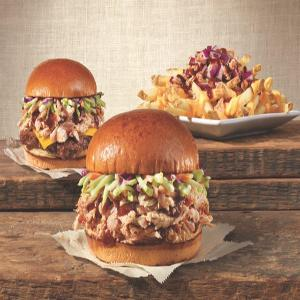cheeseburger: (73, 105, 217, 270), (21, 55, 101, 171)
fries: (144, 37, 291, 129)
